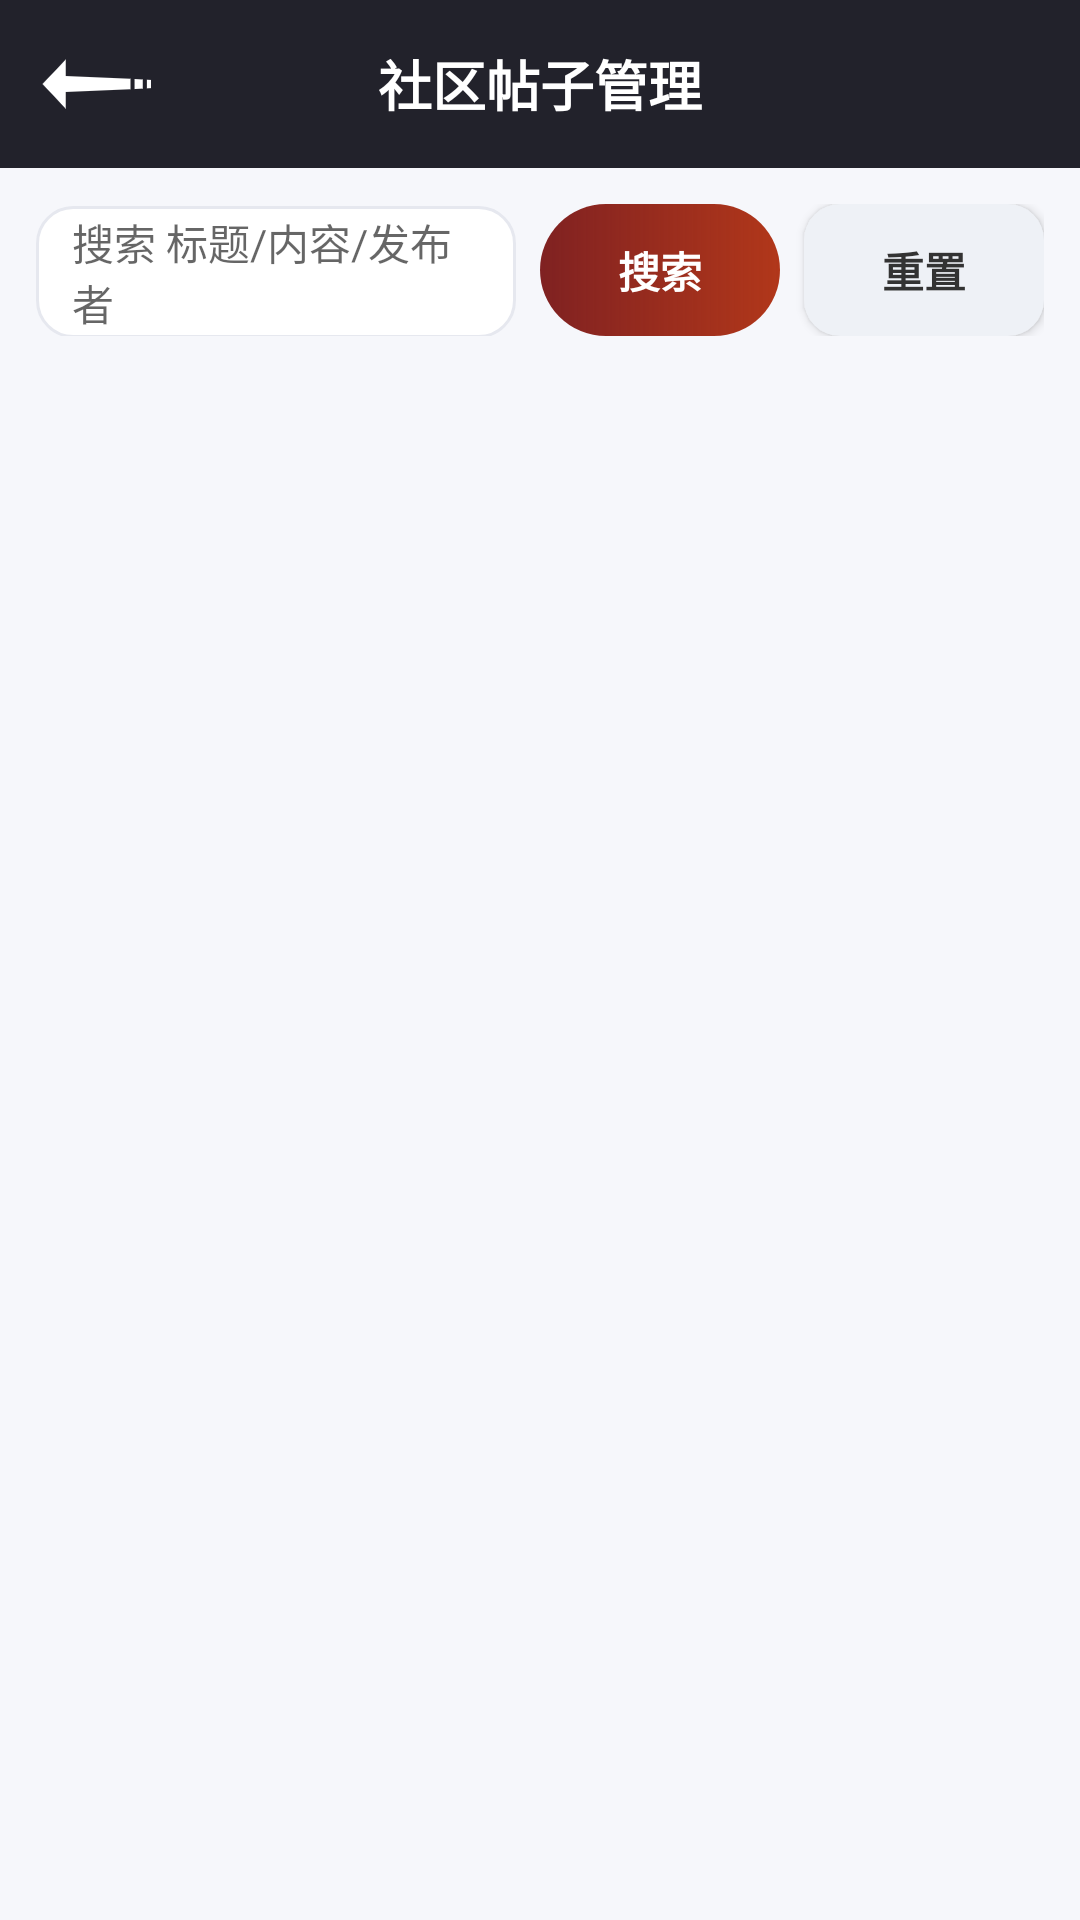

Screen size 1080×1920. Icon name, then its box in pixels as region(x1, y1, x2, y2):
left arrow: region(42, 59, 151, 109)
